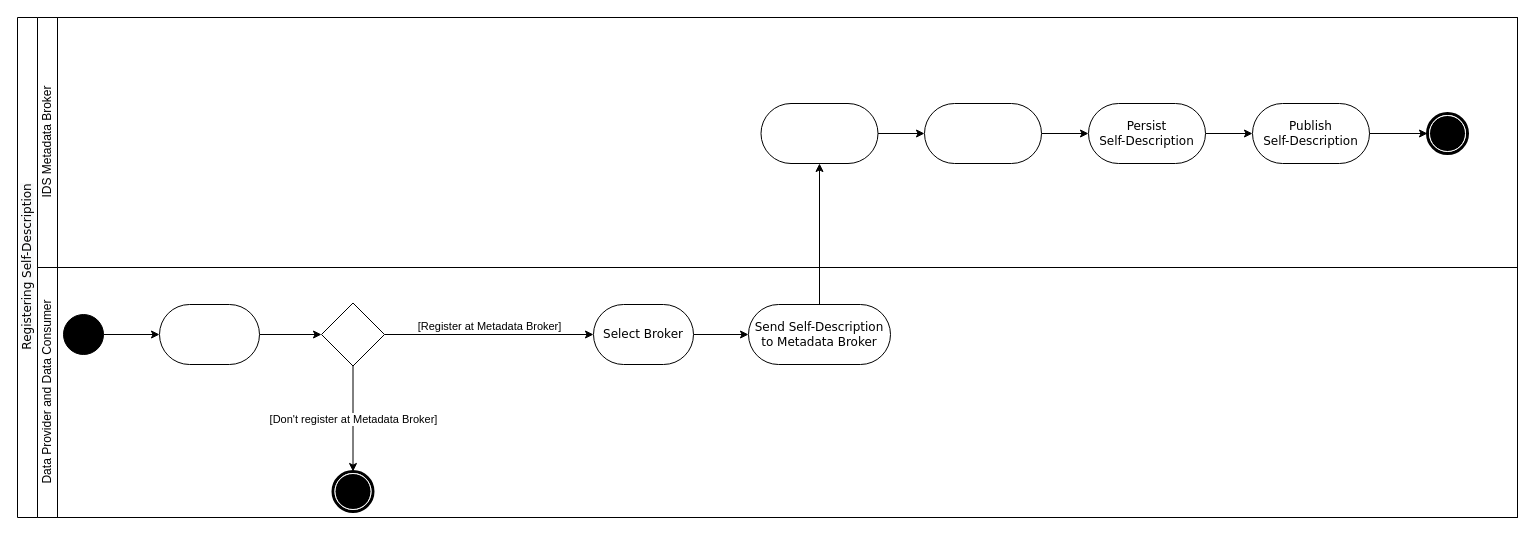
The diagram is 1535 pixels wide and 535 high, and some of its shapes have lost their labels. The centre of each missing label's shape, as x and y in pixels:
Ensure IDS-Connector reachability: point (209, 334)
Receive Self-Description: point (819, 133)
Validate Self-Description: point (983, 133)
